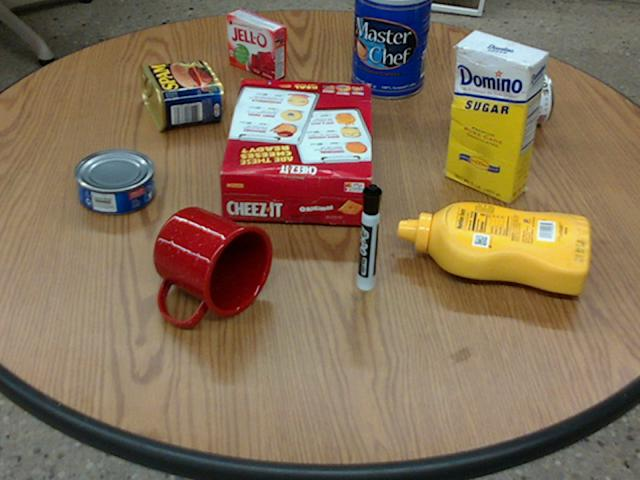cracker_box: (218, 80, 371, 225)
gelatin_box: (226, 8, 286, 79)
large_marker: (356, 183, 380, 290)
master_chef_can: (351, 0, 431, 97)
mug: (150, 207, 270, 324)
mustard_bottle: (397, 201, 588, 293)
potted_meat_can: (139, 60, 222, 129)
sugar_box: (446, 30, 546, 203)
tomato_soup_can: (459, 70, 552, 128)
tuna_fish_can: (73, 148, 153, 213)
